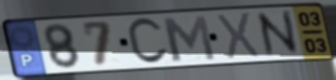7: (81, 19, 118, 69)
8: (42, 21, 82, 71)
C: (125, 16, 171, 67)
M: (159, 14, 219, 63)
N: (253, 8, 303, 60)
X: (215, 11, 262, 61)
